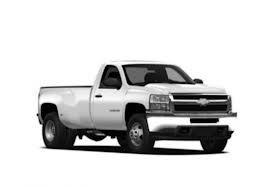car: (38, 63, 240, 156)
